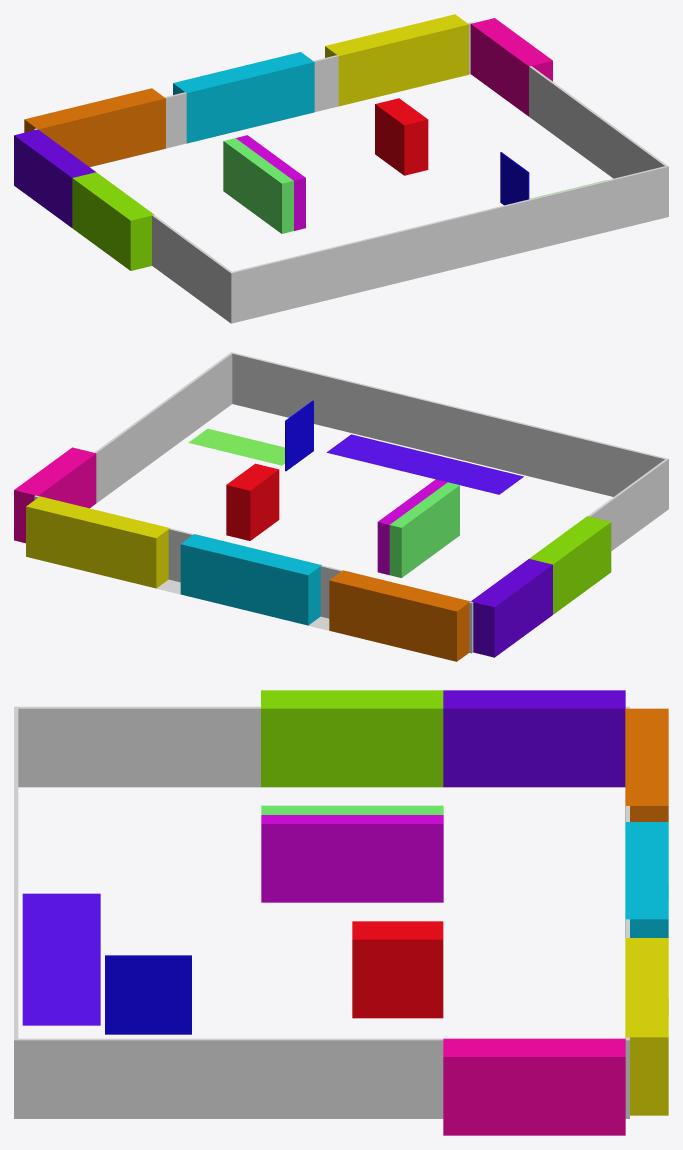
File: shop.dae
3 views of the same model, one above another, from view 1: azimuth 30°, elevation 25°; view 2: azimuth 150°, elevation 25°; view 3: azimuth 270°, elevation 25° (orthographic). The views are drawn at different scales.
Parts seen in each view (by area): view 1: wall_south, section_vegetable, section_seafood, sectinon_meat, wall_east, section_electronics, wc, section_snacks, wall_west, section_refriger, section_beverage, wall_north (+2 smaller); view 2: wall_south, section_vegetable, sectinon_meat, section_seafood, wall_east, section_snacks, section_electronics, pinky_wait_section, section_refriger, wc, wall_west, section_beverage (+4 smaller); view 3: wall_east, wall_west, wc, section_electronics, section_snacks, section_frizer, pinky_wait_section, section_beverage, section_vegetable, divider, section_seafood, sectinon_meat (+2 smaller).
Part boxes in pixels (left/top/right/bottom): wall_south: left=232, top=166, right=666, bottom=322; section_vegetable: left=325, top=14, right=468, bottom=106; section_seafood: left=173, top=52, right=314, bottom=143; sectinon_meat: left=24, top=88, right=165, bottom=166; wall_east: left=469, top=22, right=668, bottom=217; section_electronics: left=72, top=172, right=154, bottom=270; wc: left=470, top=18, right=552, bottom=116; section_snacks: left=14, top=129, right=95, bottom=227; wall_west: left=34, top=128, right=233, bottom=323; section_refriger: left=223, top=138, right=293, bottom=233; section_beverage: left=375, top=98, right=428, bottom=175; wall_north: left=164, top=23, right=470, bottom=148; wall_south: left=232, top=353, right=665, bottom=496; section_vegetable: left=26, top=496, right=169, bottom=588; sectinon_meat: left=329, top=570, right=470, bottom=661; section_seafood: left=180, top=534, right=321, bottom=625; wall_east: left=34, top=352, right=233, bottom=503; section_snacks: left=471, top=559, right=552, bottom=657; section_electronics: left=529, top=516, right=611, bottom=614; pinky_wait_section: left=326, top=434, right=523, bottom=494; section_refriger: left=389, top=482, right=459, bottom=577; wc: left=14, top=447, right=96, bottom=543; wall_west: left=469, top=458, right=668, bottom=653; section_beverage: left=226, top=463, right=279, bottom=540; wall_east: left=14, top=1038, right=629, bottom=1118; wall_west: left=14, top=706, right=629, bottom=787; wc: left=443, top=1038, right=625, bottom=1135; section_electronics: left=261, top=690, right=443, bottom=787; section_snacks: left=443, top=690, right=625, bottom=787; section_frizer: left=261, top=815, right=443, bottom=902; pinky_wait_section: left=22, top=893, right=100, bottom=1025; section_beverage: left=352, top=921, right=443, bottom=1018; section_vegetable: left=625, top=938, right=668, bottom=1115; divider: left=105, top=955, right=191, bottom=1034; section_seafood: left=625, top=822, right=668, bottom=937; sectinon_meat: left=625, top=708, right=668, bottom=821.
Bounding box in the file's own units: 1.99 × 1.51 × 0.1996.
